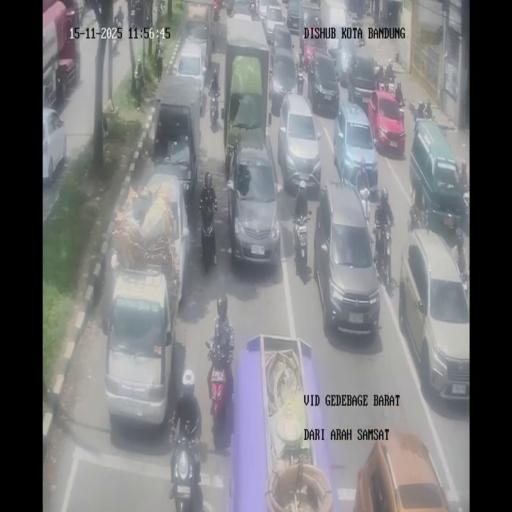3: (232, 332, 337, 512), (42, 0, 79, 108)
car: (103, 265, 178, 425), (401, 229, 469, 399), (313, 180, 380, 335), (226, 134, 282, 268), (140, 172, 192, 299), (410, 120, 466, 234), (276, 93, 320, 196), (333, 99, 377, 197), (175, 42, 207, 112), (308, 50, 340, 118), (42, 108, 66, 183), (270, 50, 298, 114), (348, 53, 378, 110), (264, 2, 286, 43), (302, 9, 322, 48), (336, 43, 354, 78), (286, 1, 303, 34), (231, 0, 251, 18), (327, 40, 340, 67), (74, 0, 85, 25)
truck: (167, 424, 203, 509), (205, 346, 234, 441), (372, 219, 394, 289), (291, 202, 312, 268), (199, 202, 217, 272), (358, 180, 372, 223), (412, 106, 434, 133), (408, 202, 427, 233), (460, 184, 469, 234), (208, 89, 220, 125), (303, 42, 315, 74), (459, 265, 469, 302), (367, 225, 376, 266), (224, 145, 234, 181), (296, 56, 305, 94), (396, 93, 406, 124), (90, 17, 99, 48), (384, 72, 396, 95), (371, 57, 383, 80), (111, 28, 120, 56), (249, 0, 260, 19), (210, 18, 216, 52), (115, 6, 124, 28), (268, 64, 274, 97), (376, 74, 387, 91), (299, 32, 305, 62), (356, 28, 365, 48), (212, 4, 220, 22), (130, 6, 136, 28), (226, 1, 234, 17), (379, 8, 385, 22), (366, 5, 372, 17)
